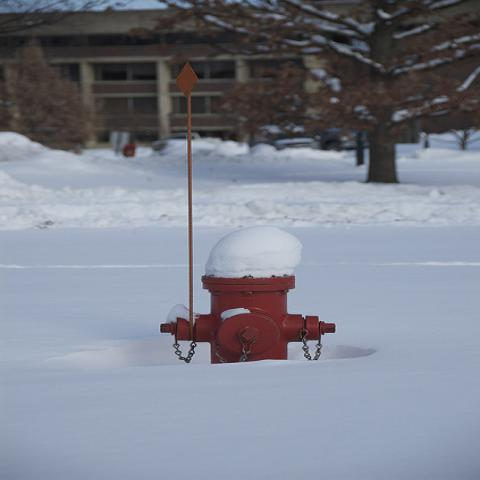truck: (273, 130, 358, 150), (252, 125, 307, 146)
